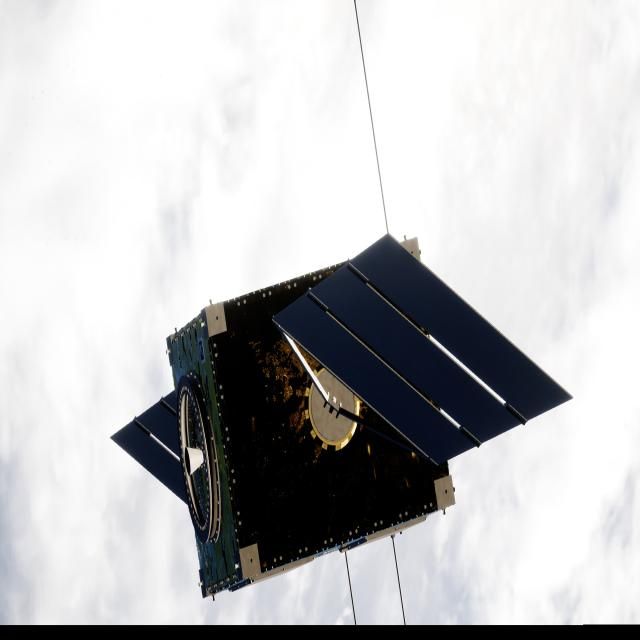satellite: (114, 236, 568, 597)
